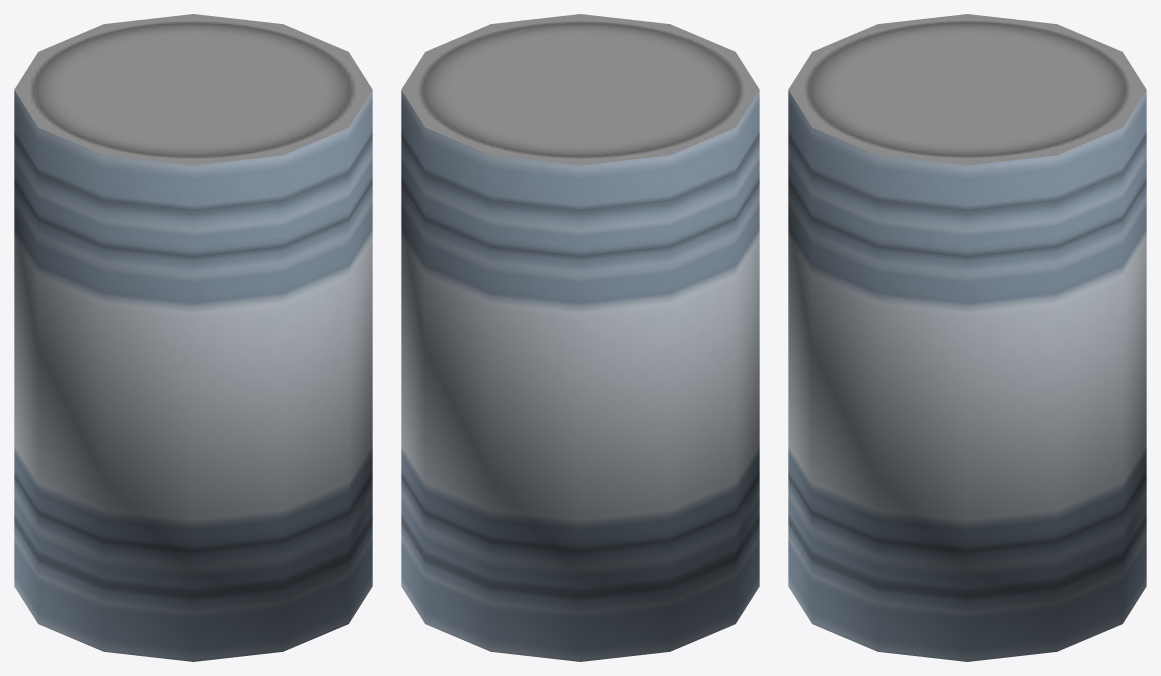
File: barrel.fbx
3 renders of one model, left to right at view 1: azimuth 30°, elevation 25°; view 2: azimuth 150°, elevation 25°; view 3: azimuth 270°, elevation 25°, orthographic.
Parts seen in each view (by area): view 1: Cylinder; view 2: Cylinder; view 3: Cylinder.
Boxes of the visible parts, x1=… form: Cylinder: x1=14, y1=14, x2=372, y2=661; Cylinder: x1=401, y1=14, x2=759, y2=661; Cylinder: x1=788, y1=14, x2=1146, y2=661.
Bounding box in the file's own units: 113 × 173 × 113.
Materials: 1 (1 with a texture image).
